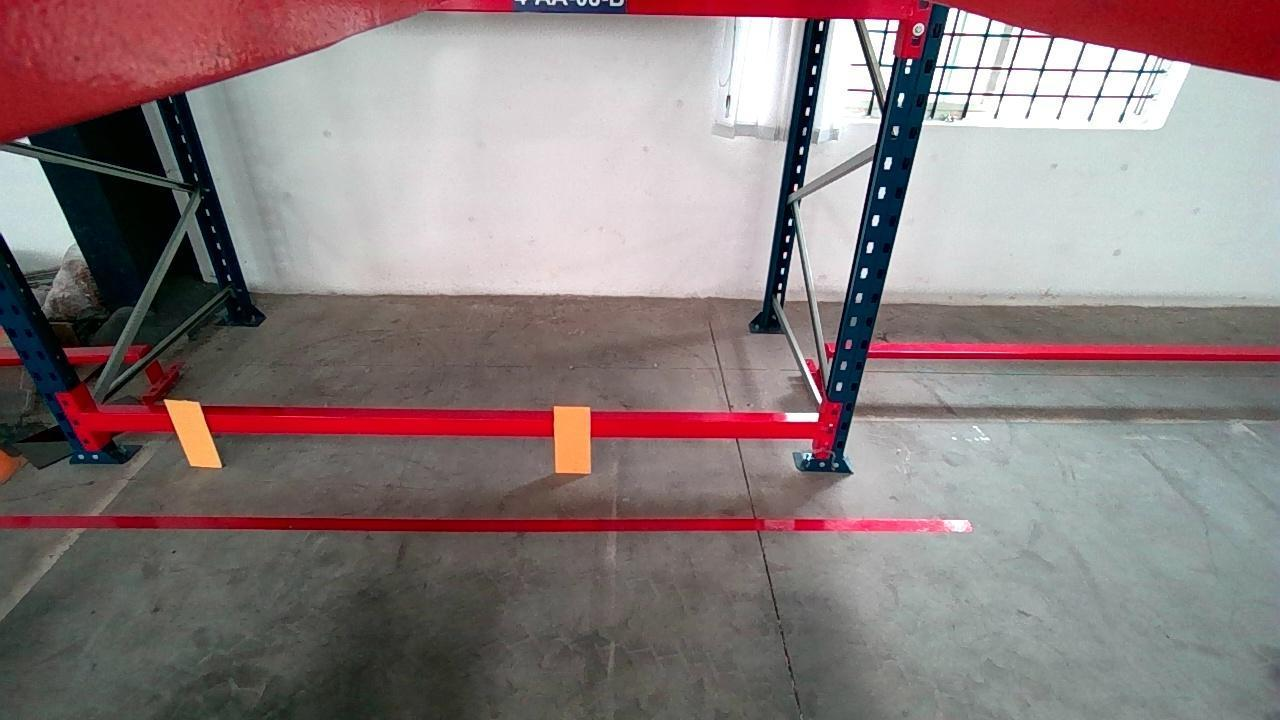h_rack: (78, 413, 826, 441), (431, 0, 927, 20)
orange_strip: (160, 398, 223, 466), (552, 404, 589, 473)
red_line: (1, 513, 969, 533)
